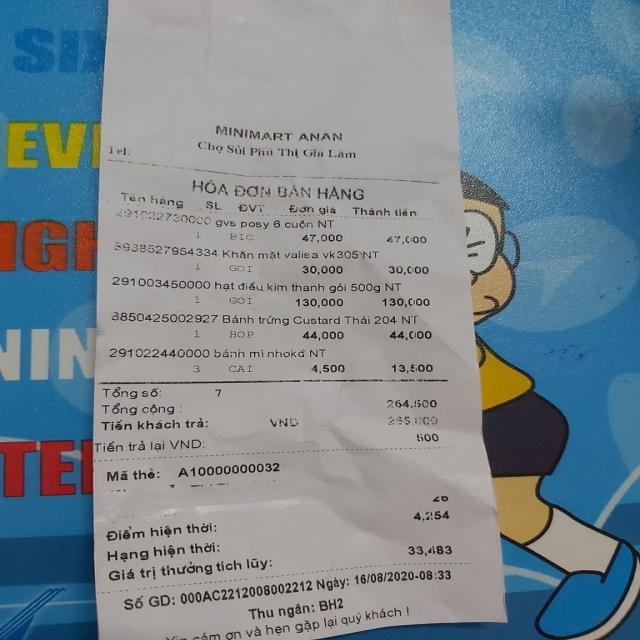Date: (353, 570, 416, 584)
Store_Name: (216, 122, 348, 143)
amount_number: (386, 396, 438, 411)
label_total: (100, 400, 176, 414)
